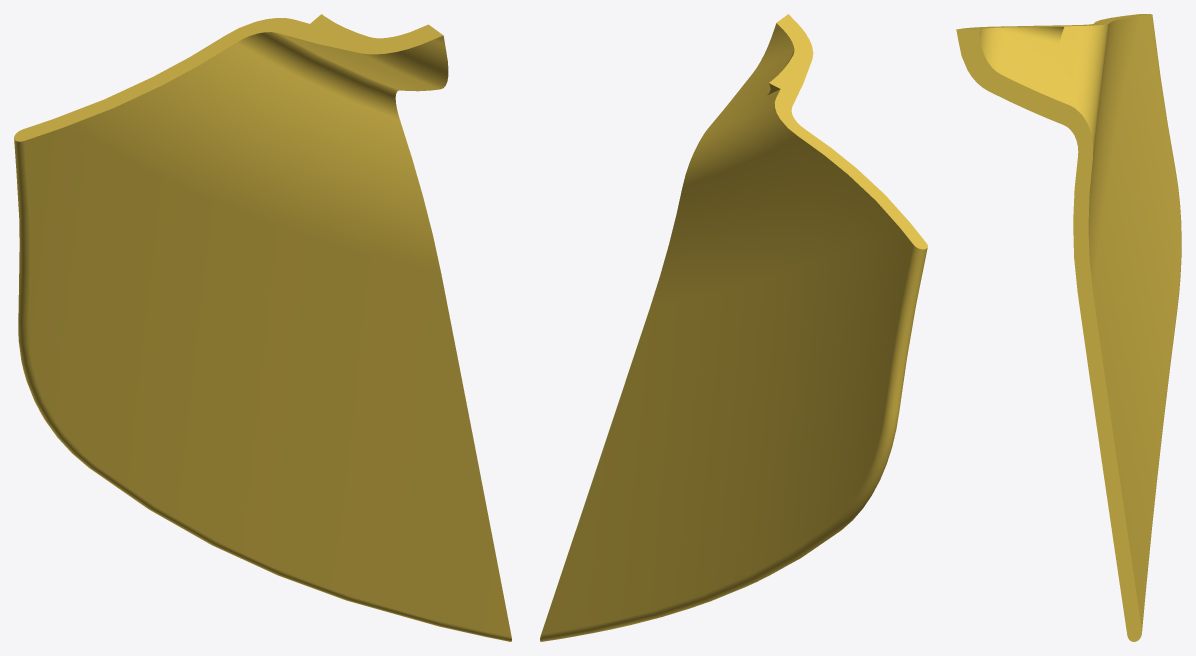
3 views of the same model, side by side, from view 1: azimuth 30°, elevation 25°; view 2: azimuth 150°, elevation 25°; view 3: azimuth 270°, elevation 25° (orthographic). The views are drawn at different scales.
Parts seen in each view (by area): view 1: Body1; view 2: Body1; view 3: Body1.
Part boxes in pixels (x1,y1,x2,y2): Body1: [14, 14, 511, 641]; Body1: [540, 14, 927, 641]; Body1: [956, 14, 1181, 641].
Bounding box in the file's own units: 554 × 805 × 301.
